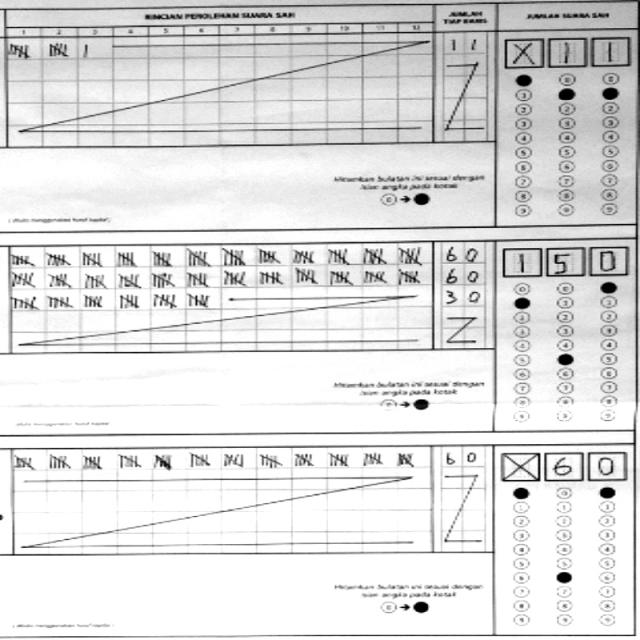Suara: (497, 240, 633, 278), (501, 33, 629, 68), (498, 450, 628, 482)
